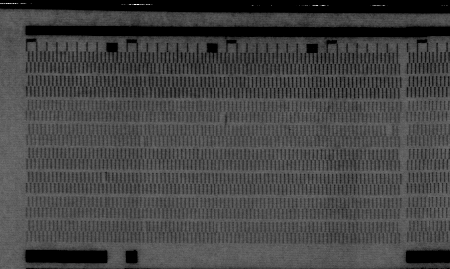Broken hole: (217, 110, 230, 125), (383, 125, 394, 139)
Oblique printing: (98, 171, 112, 185), (137, 136, 150, 148), (140, 220, 151, 232)
